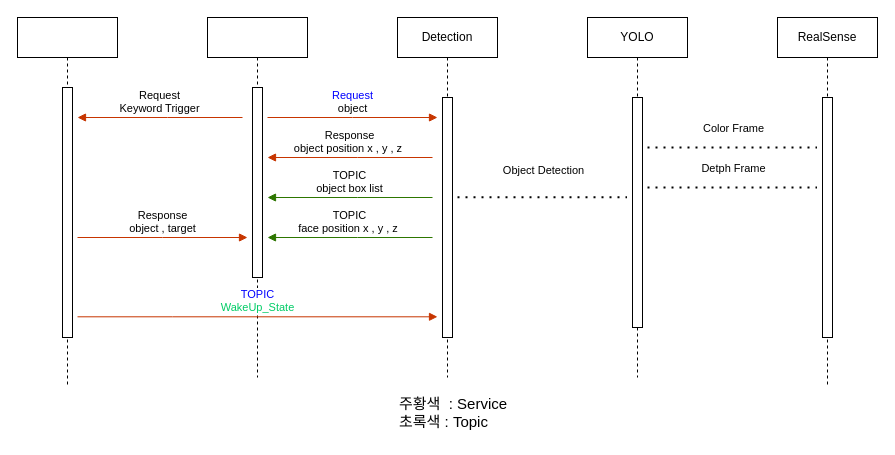
Some shapes in this 895 by 455 pixel diagram are drawn without their labels. The shapes that lost their labels are listed below. From the top down, each one's box as (x1, y1, x2, y2) in pixels, then its label:
(16, 16, 118, 388): GPT
(206, 16, 308, 378): Control
